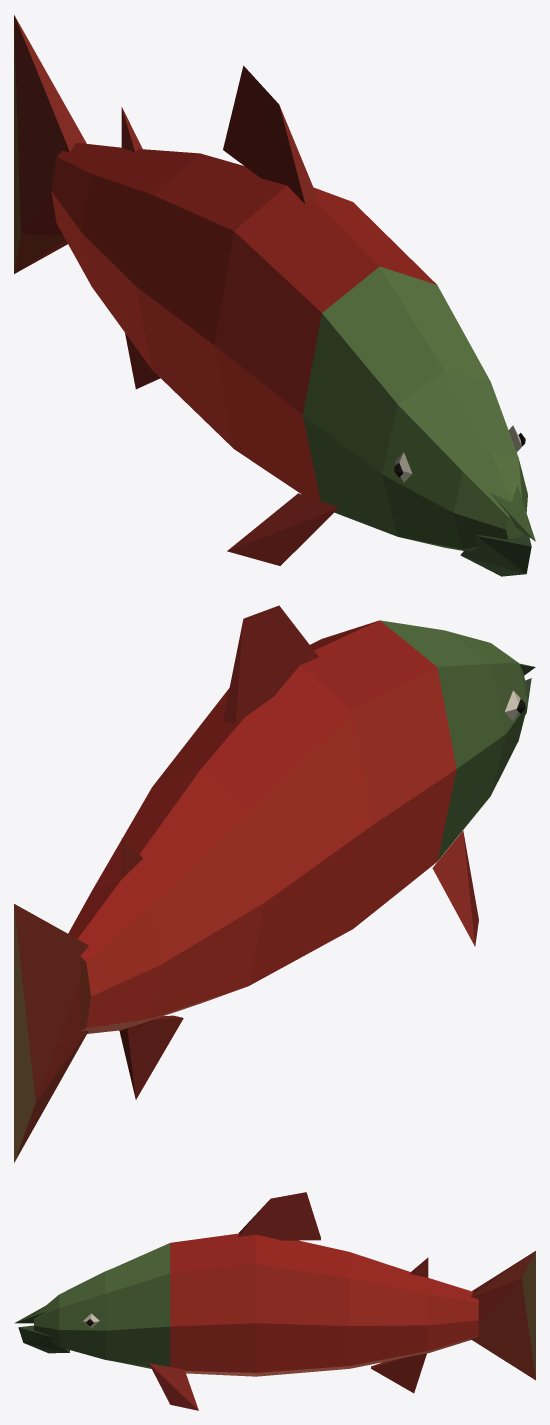
The model's file is salmon.glb.
3 renders of one model, top to bottom at view 1: azimuth 30°, elevation 25°; view 2: azimuth 150°, elevation 25°; view 3: azimuth 270°, elevation 25°, orthographic. The views are drawn at different scales.
Parts seen in each view (by area): view 1: salmon; view 2: salmon; view 3: salmon.
Boxes of the visible parts, <box> form: salmon: <box>14,15,535,576</box>; salmon: <box>14,605,535,1162</box>; salmon: <box>14,1192,535,1410</box>.
Bounding box in the file's own units: 0.2 × 0.31 × 0.728.
